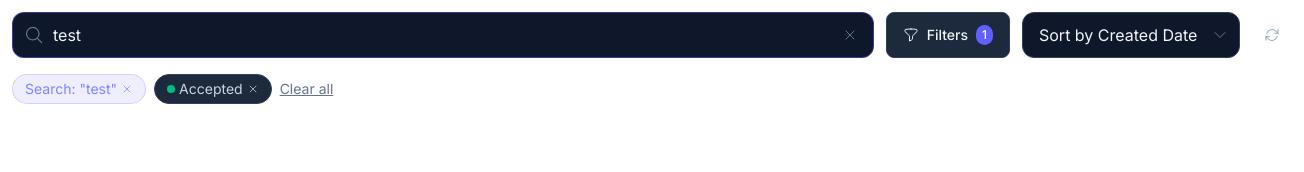
Test: QuoteFilters › active filters display › clears all filters when clear all clicked
Click the button "Clear all": {"x": 306, "y": 89} [280,79,333,99]
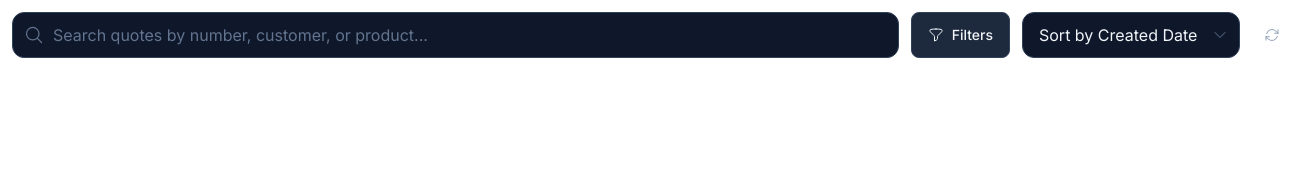
Check: the field with placeholder "Search quotes by number, customer, or product..." is empty, box [12,12,899,58]
